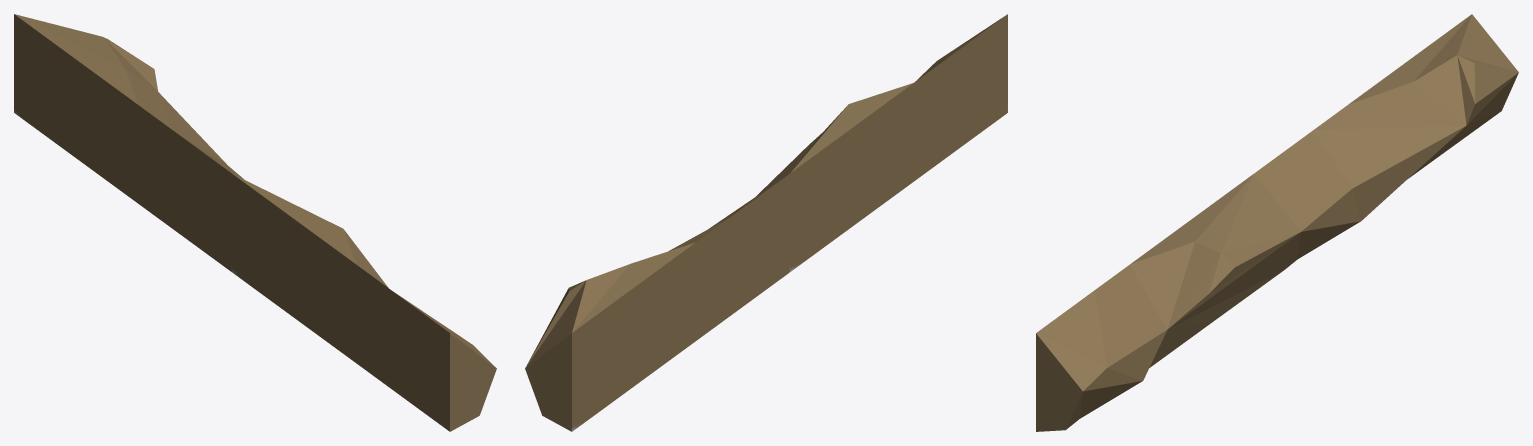
Rendered from LightRockEdgeMediumStraight1.fbx.
3 renders of one model, left to right at view 1: azimuth 30°, elevation 25°; view 2: azimuth 150°, elevation 25°; view 3: azimuth 330°, elevation 25°, orthographic.
Parts seen in each view (by area): view 1: LightNaturalRockEdgeStraightMediuem_2; view 2: LightNaturalRockEdgeStraightMediuem_2; view 3: LightNaturalRockEdgeStraightMediuem_2.
Part boxes in pixels (box(x1,y1,x2,y2)): LightNaturalRockEdgeStraightMediuem_2: box(14, 14, 496, 431); LightNaturalRockEdgeStraightMediuem_2: box(525, 14, 1007, 431); LightNaturalRockEdgeStraightMediuem_2: box(1036, 14, 1518, 431).
Size of the model in its own units: 152 by 212 by 1600.
Materials: 1 (1 with a texture image).
